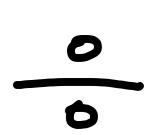div: (13, 35, 141, 130)
